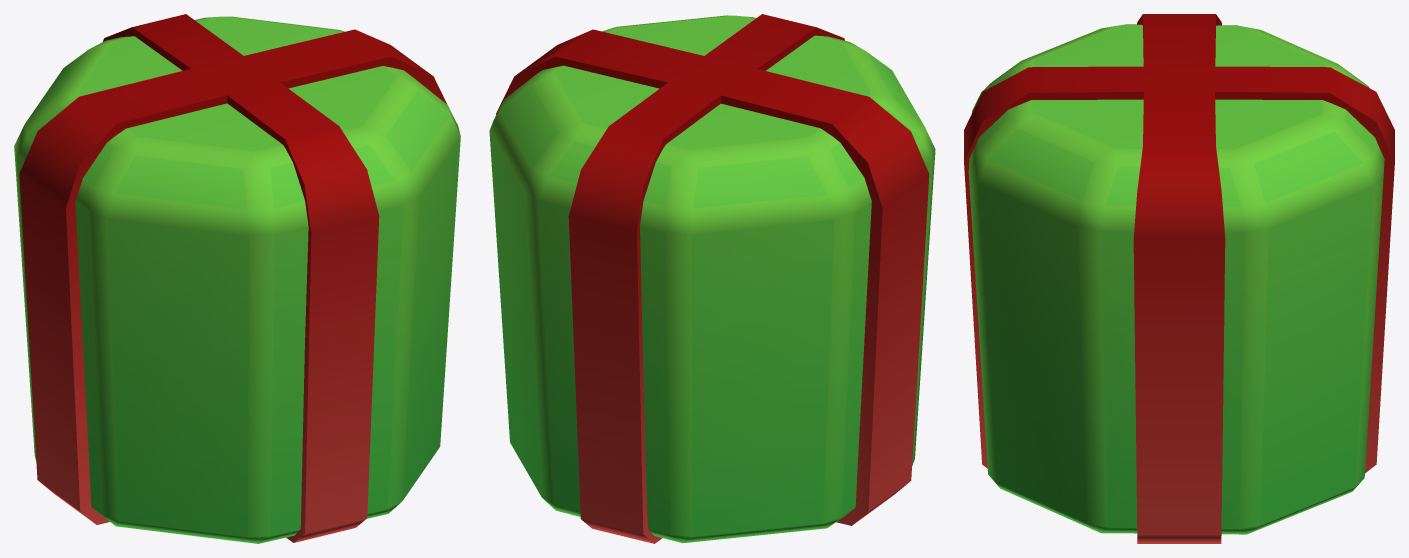
The model's file is giftbox_027.fbx.
3 renders of one model, left to right at view 1: azimuth 30°, elevation 25°; view 2: azimuth 150°, elevation 25°; view 3: azimuth 270°, elevation 25°, orthographic.
Parts seen in each view (by area): view 1: giftbox_027; view 2: giftbox_027; view 3: giftbox_027.
Part boxes in pixels (x1,y1,x2,y2): giftbox_027: [14, 14, 460, 543]; giftbox_027: [489, 14, 935, 543]; giftbox_027: [964, 14, 1394, 543].
Size of the model in its own units: 236 by 232 by 231.
